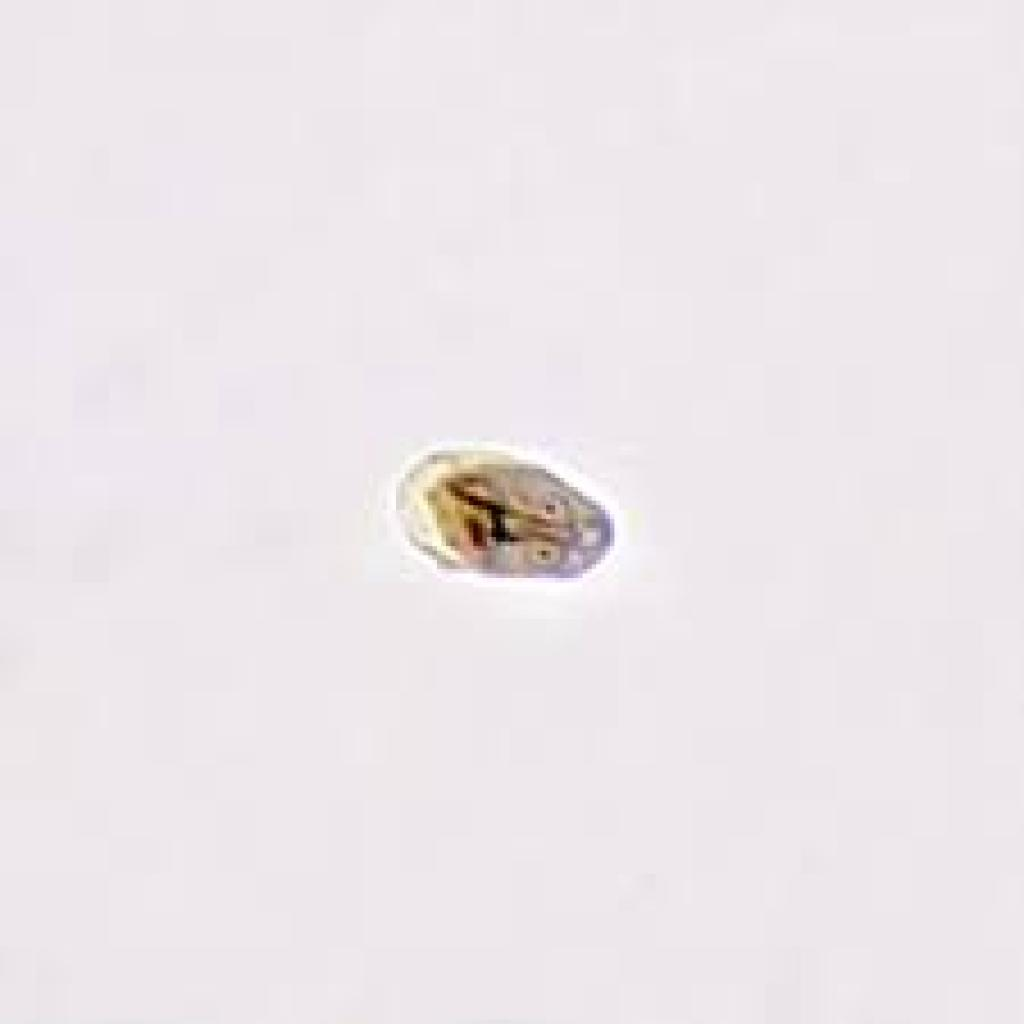Giardia: (387, 437, 619, 587)
